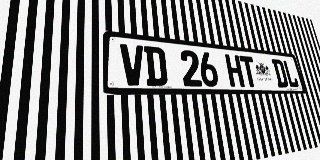2: (180, 49, 202, 86)
6: (198, 51, 219, 87)
D: (144, 46, 168, 86), (271, 59, 289, 88)
H: (225, 54, 245, 87)
L: (282, 60, 299, 88)
T: (239, 56, 259, 87)
V: (120, 43, 146, 86)
